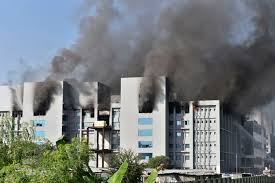smoke: (170, 30, 274, 98)
